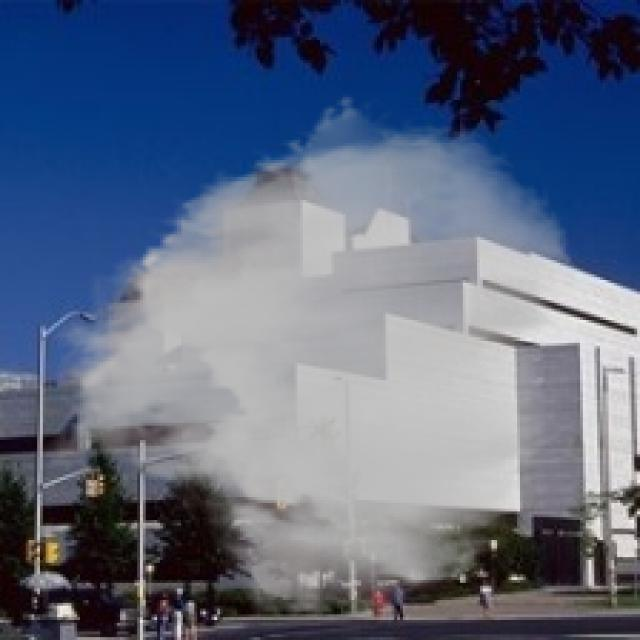Smoke: (40, 94, 580, 623)
